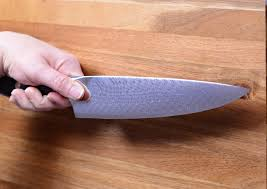knife: (1, 72, 257, 123)
